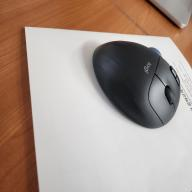mouse: (92, 37, 184, 132)
